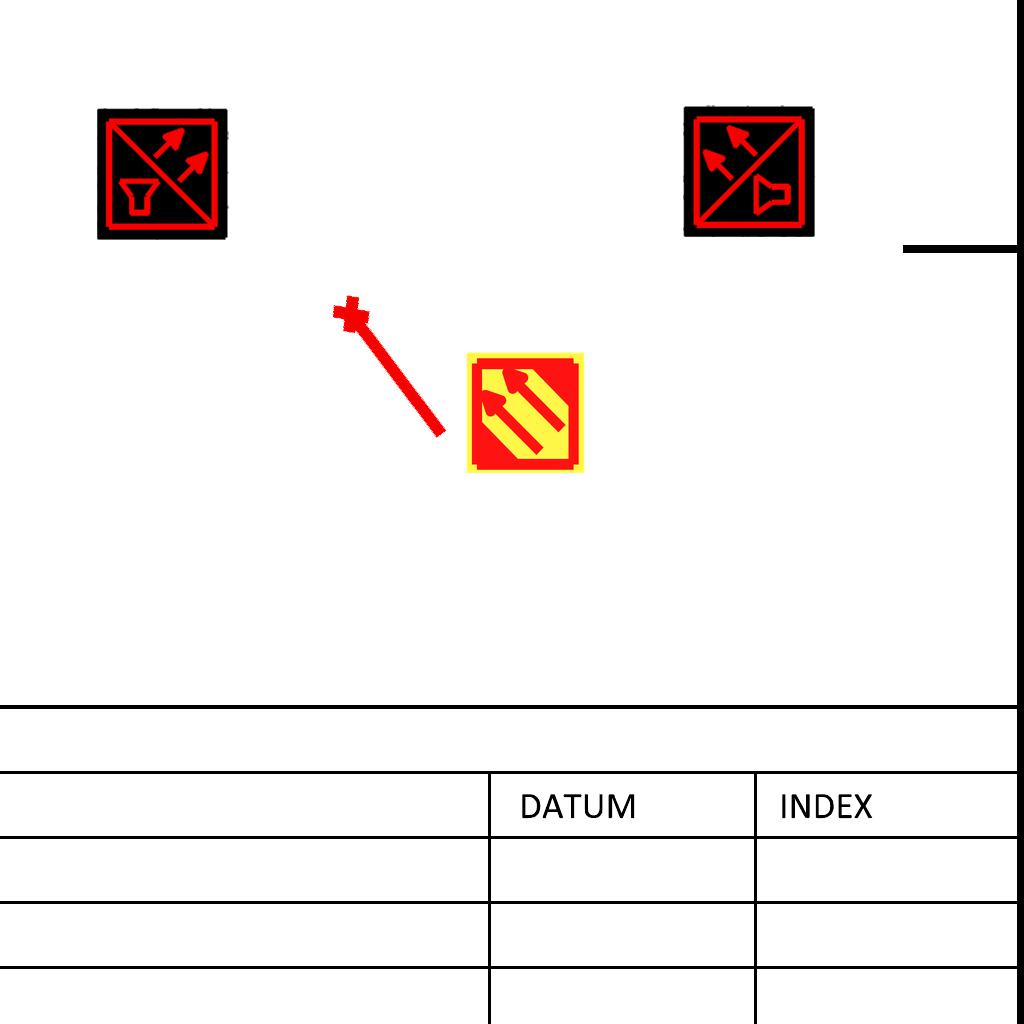ASR_Ansaugoeffnung: (322, 282, 466, 452)
ASR_Ansaugrauchmelder: (463, 350, 588, 475)
OKW_Multisensormelder_(Kombination_optischer_Rauch-Kahlenmonoxid_Waerme-Melder): (683, 105, 815, 237), (97, 108, 229, 240)
